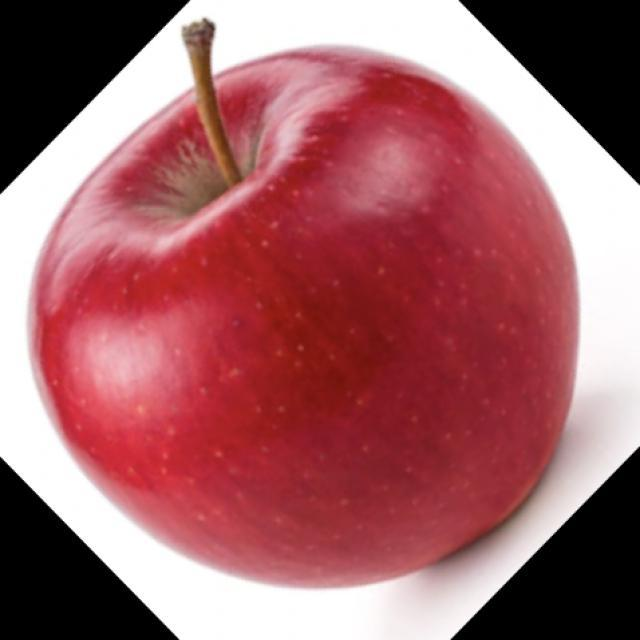Fresh Apple: (48, 44, 587, 598)
